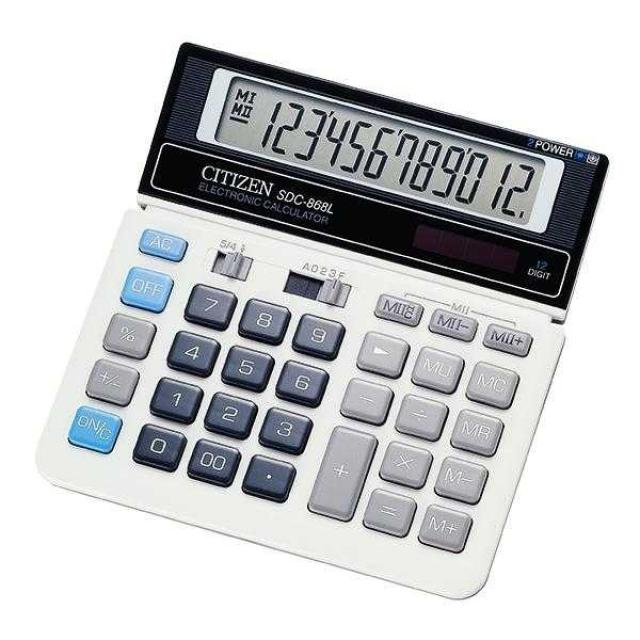Calculator: (33, 39, 609, 600)
